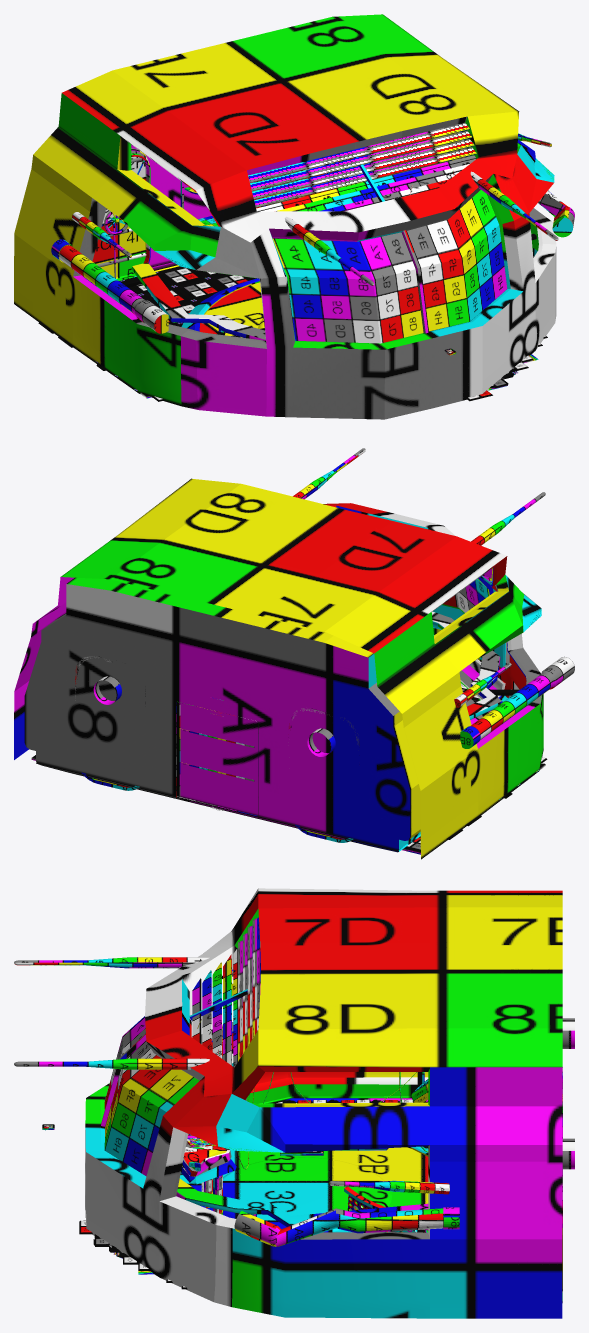
Rendered from shipBlocked_v02.fbx.
3 renders of one model, top to bottom at view 1: azimuth 30°, elevation 25°; view 2: azimuth 150°, elevation 25°; view 3: azimuth 270°, elevation 25°, orthographic. The views are drawn at different scales.
Visible parts, largest first — view 1: polySurface923, polySurface908, polySurface32, polySurface23, pCylinder10, pCylinder1, polySurface912, pCube37, pCube36, pCube39, pCube38, pCylinder18 (+5 smaller); view 2: polySurface923, pCylinder10, polySurface912, polySurface24, polySurface908, polySurface23, polySurface930, polySurface33, polySurface25, polySurface26; view 3: polySurface923, pCylinder1, polySurface908, pCylinder18, polySurface32, polySurface912, polySurface25, polySurface33, polySurface2, polySurface27, pCube36, pCube37 (+3 smaller).
Part boxes in pixels (box(x1,y1,x2,y2)): polySurface923: box(14, 14, 556, 419); polySurface908: box(272, 190, 507, 343); polySurface32: box(256, 155, 476, 211); polySurface23: box(92, 148, 150, 280); pCylinder10: box(51, 239, 168, 333); pCylinder1: box(181, 278, 264, 337); polySurface912: box(132, 262, 265, 340); pCube37: box(250, 131, 471, 191); pCube36: box(248, 122, 469, 182); pCube39: box(254, 147, 476, 207); pCube38: box(252, 139, 474, 199); pCylinder18: box(538, 190, 574, 237); polySurface923: box(14, 478, 543, 859); pCylinder10: box(460, 656, 574, 748); polySurface912: box(431, 611, 502, 719); polySurface24: box(75, 656, 145, 790); polySurface908: box(443, 578, 488, 612); polySurface23: box(289, 708, 359, 842); polySurface930: box(37, 681, 480, 852); polySurface33: box(471, 492, 545, 545); polySurface25: box(293, 448, 365, 499); polySurface26: box(454, 662, 511, 707); polySurface923: box(85, 888, 562, 1318); pCylinder1: box(180, 1146, 428, 1232); polySurface908: box(104, 1016, 199, 1176); pCylinder18: box(234, 1207, 459, 1246); polySurface32: box(192, 948, 237, 1067); polySurface912: box(176, 1053, 428, 1226); polySurface25: box(14, 1058, 209, 1069); polySurface33: box(14, 957, 209, 968); polySurface2: box(181, 1148, 236, 1184); polySurface27: box(329, 1180, 449, 1194); pCube36: box(252, 917, 260, 1038); pCube37: box(247, 925, 252, 1046).
Bounding box in the file's own units: 705 × 323 × 684.
